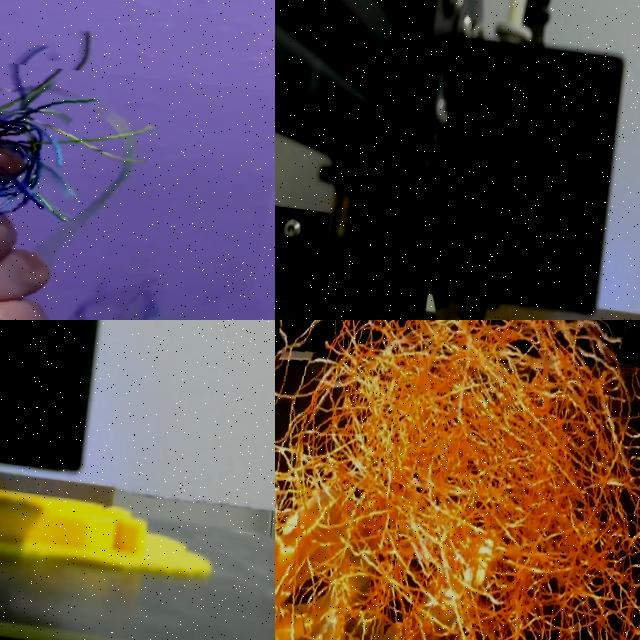spaghetti: (275, 320, 640, 640), (0, 44, 275, 320), (396, 300, 460, 320)
